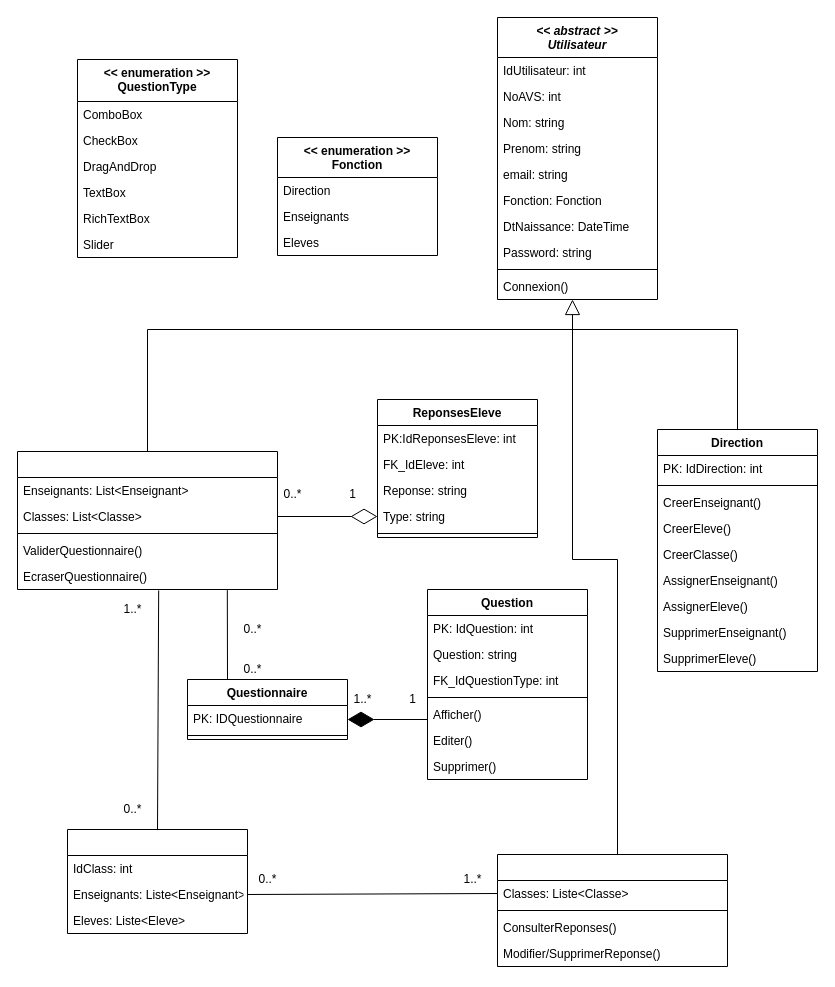
Image size: 835x987. Some labels were removed from this diagram. Here are the shapes that lost their labels. From the top down, the box of each, then its label:
(16, 450, 278, 590): Eleve
(66, 828, 248, 934): Classe
(496, 854, 728, 966): Enseignant
